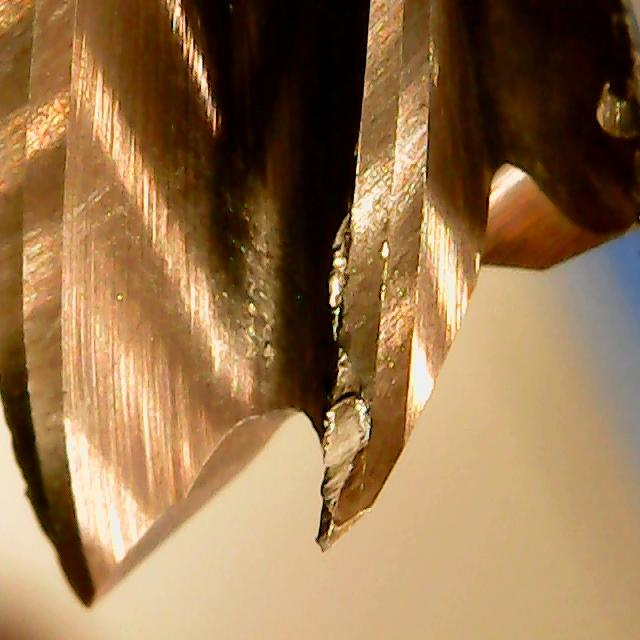Tool-wear-class-2: (298, 262, 446, 554)
